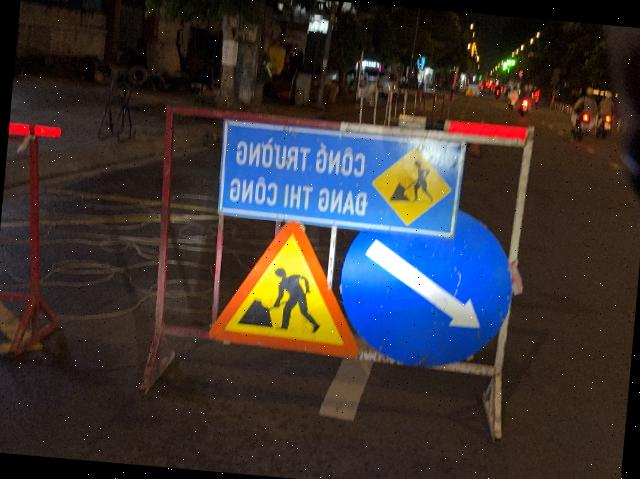cong-truong-dang-thi-cong: (207, 214, 370, 358)
huong-phai-di-vong-chuong-ngai-vat: (333, 199, 517, 373)
